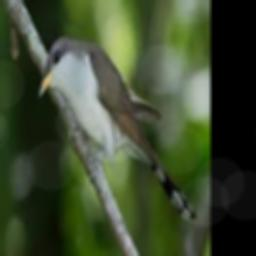Cuckoo: (38, 36, 196, 222)
